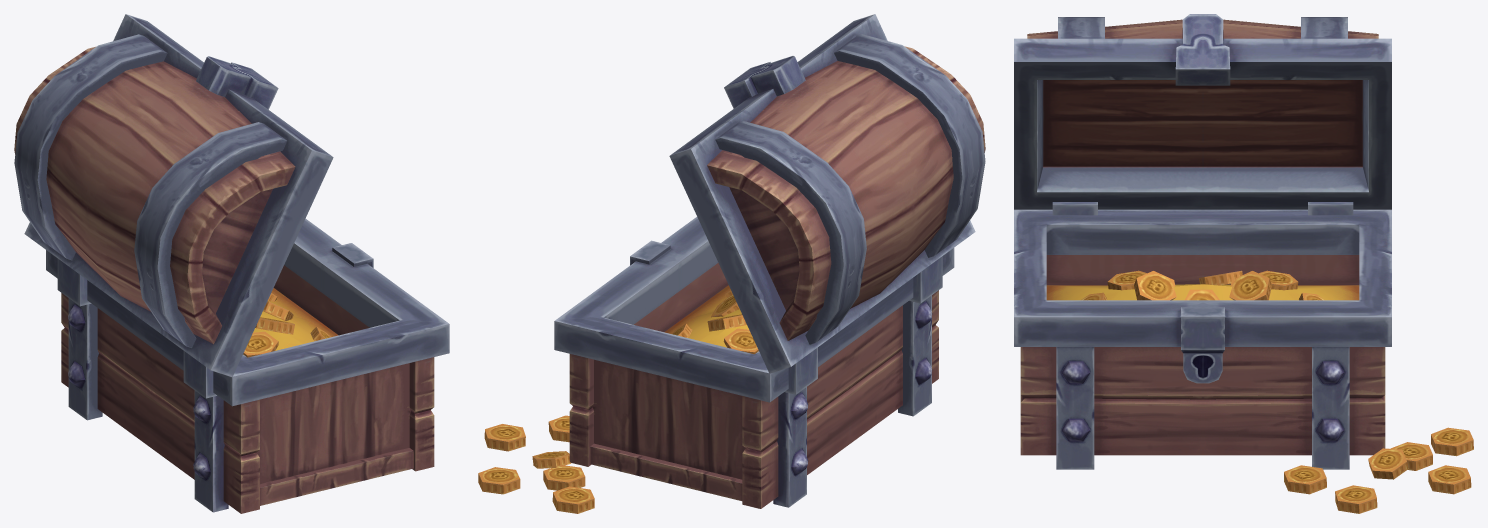
3 views of the same model, side by side, from view 1: azimuth 30°, elevation 25°; view 2: azimuth 150°, elevation 25°; view 3: azimuth 270°, elevation 25° (orthographic). The views are drawn at different scales.
Parts seen in each view (by area): view 1: Chest_top, Chest_bottom; view 2: Chest_top, Chest_bottom, Coins; view 3: Chest_bottom, Chest_top, Coins.
Part boxes in pixels (x1,y1,x2,y2): Chest_top: (14,14,333,376); Chest_bottom: (46,218,449,513); Chest_top: (669,14,985,373); Chest_bottom: (554,217,954,508); Coins: (478,294,739,513); Chest_bottom: (1014,202,1391,469); Chest_top: (1014,14,1391,209); Coins: (1185,270,1473,513).
Bounding box in the file's own units: 255 × 260 × 280.
Materials: 1 (1 with a texture image).
